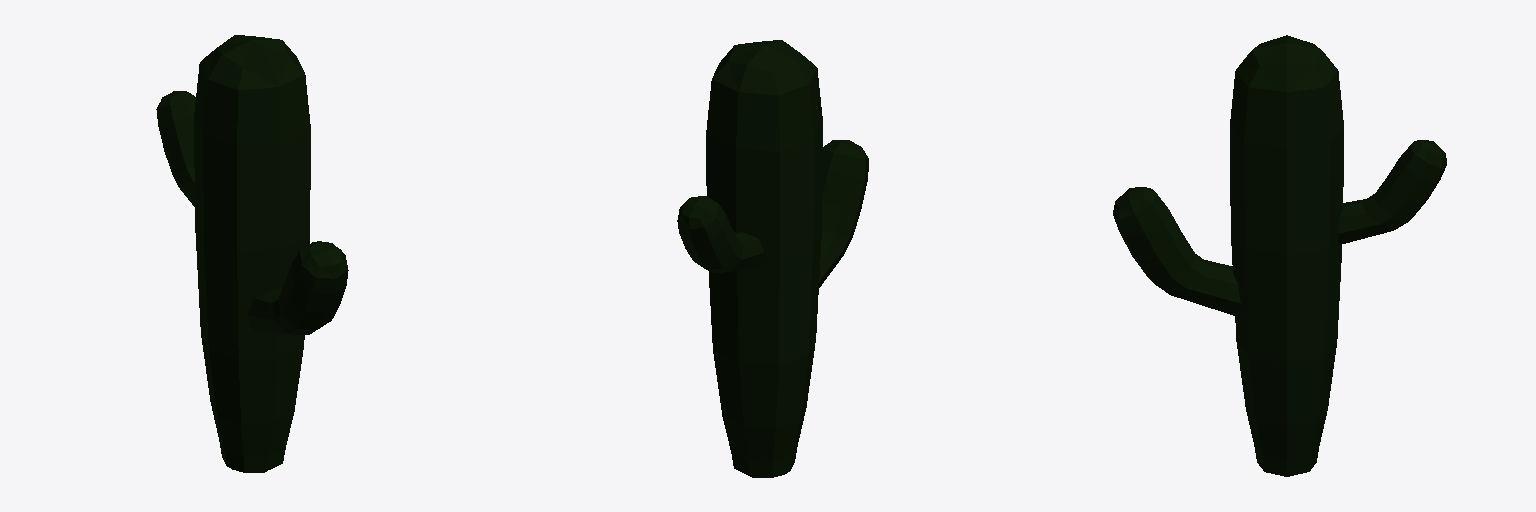
The model's file is Cactus_3.obj.
3 views of the same model, side by side, from view 1: azimuth 30°, elevation 25°; view 2: azimuth 150°, elevation 25°; view 3: azimuth 270°, elevation 25° (orthographic).
Parts seen in each view (by area): view 1: Cactus_3_Cube.009; view 2: Cactus_3_Cube.009; view 3: Cactus_3_Cube.009.
Part boxes in pixels (left/top/right/bottom): Cactus_3_Cube.009: left=156, top=35, right=348, bottom=472; Cactus_3_Cube.009: left=677, top=40, right=868, bottom=477; Cactus_3_Cube.009: left=1113, top=35, right=1446, bottom=476.
Size of the model in its own units: 0.3418 by 1.41 by 1.